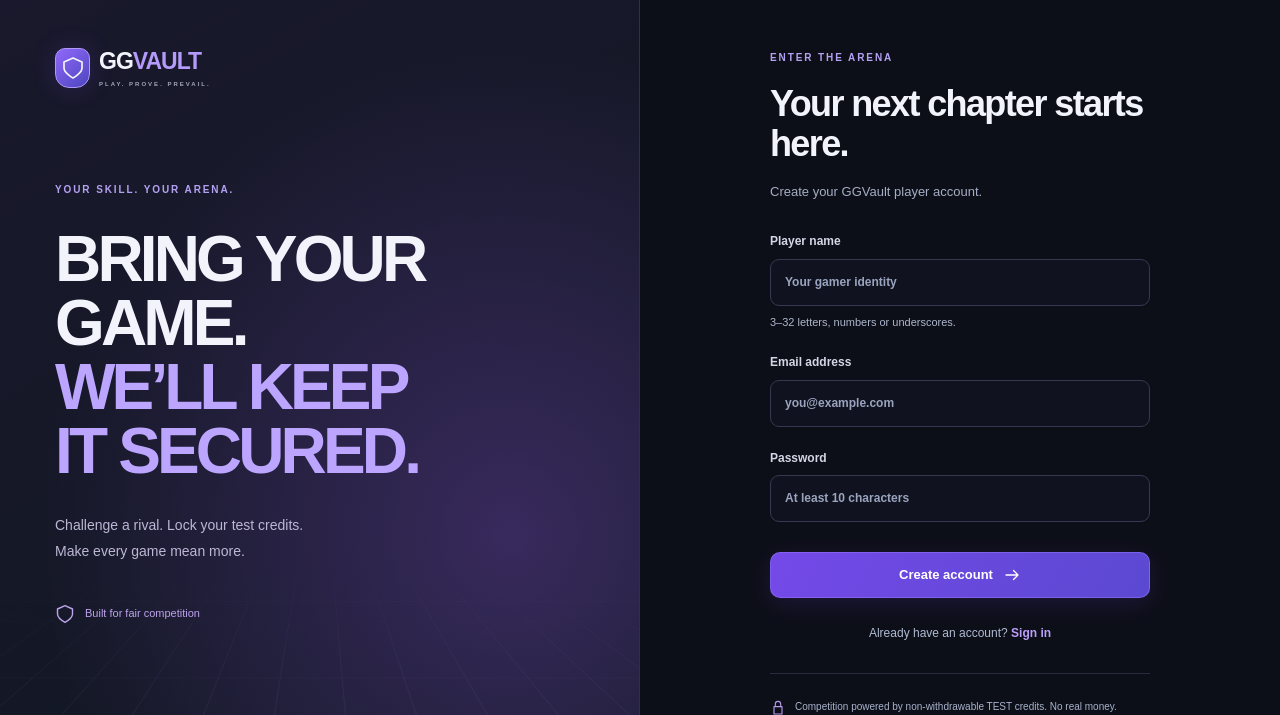
registration sends a player name and presents safe duplicate-account errors
The image size is (1280, 715).
In the field labelled "Player name 3–32 letters, numbers or underscores.": (960, 282) [770,259,1150,306], type "amir"
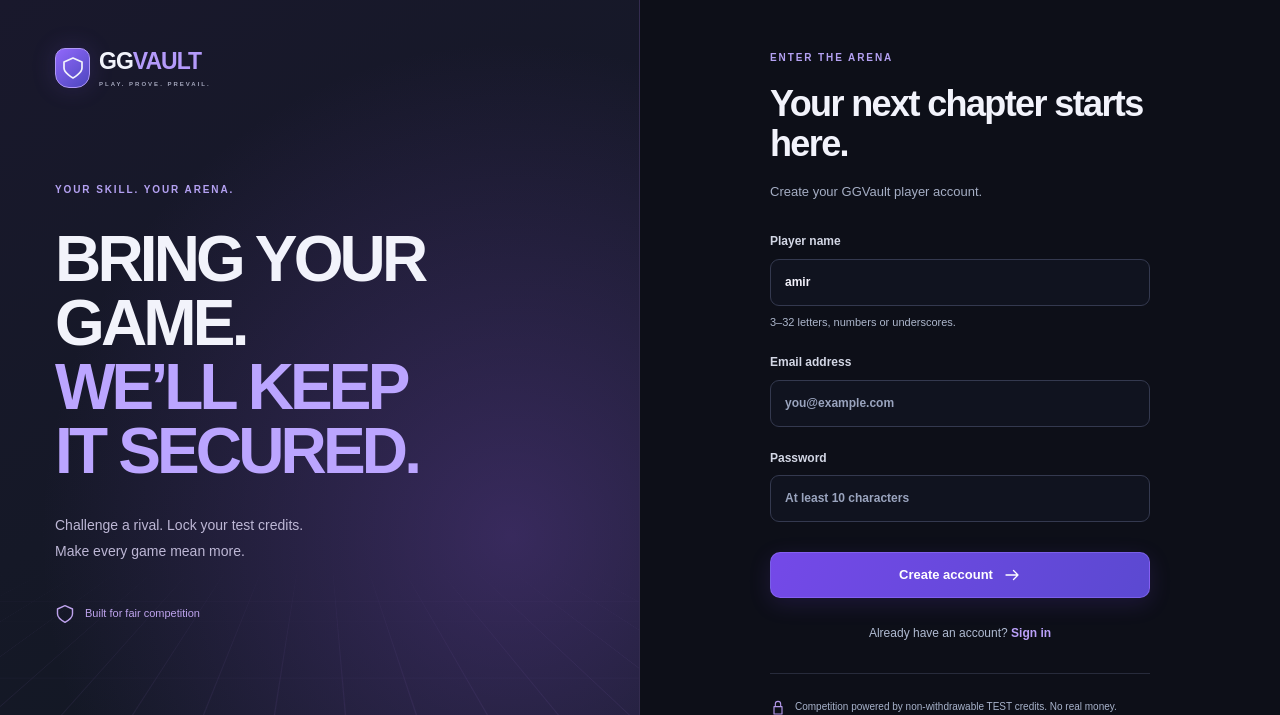
Submit the form named "Registration", box [770,232,1150,598]
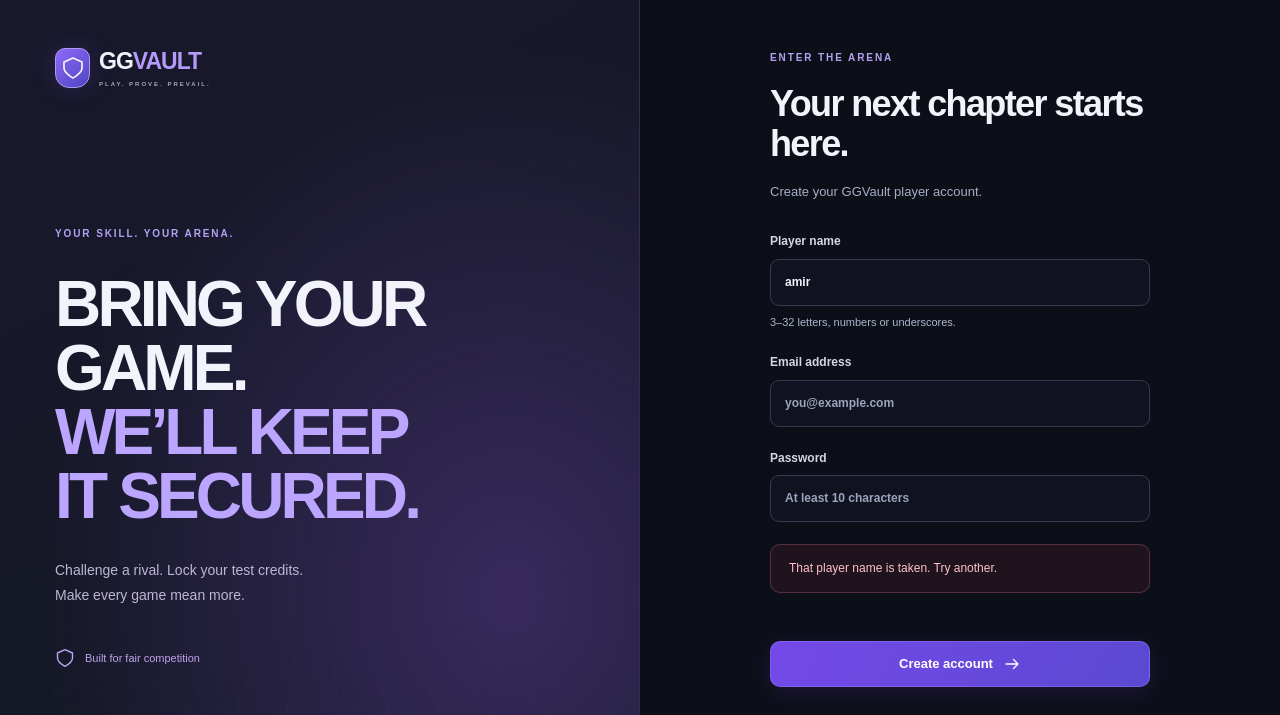
Now the message shows "That player name is taken", box [789,561,997,575]
